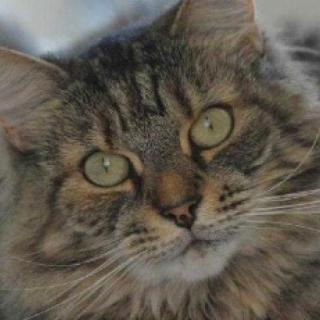cat: (0, 11, 292, 306)
nose: (147, 173, 206, 233)
